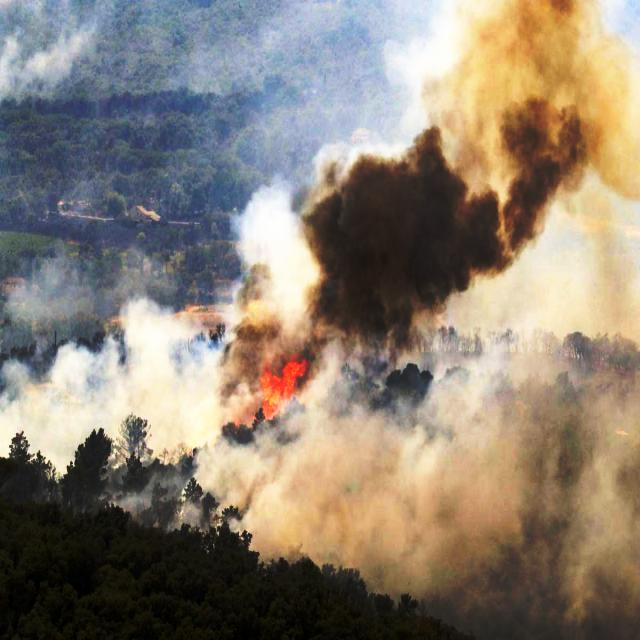api: (257, 368, 309, 411)
asap: (312, 3, 638, 640), (1, 255, 235, 446), (235, 166, 312, 360), (120, 436, 239, 532), (242, 414, 314, 570)
